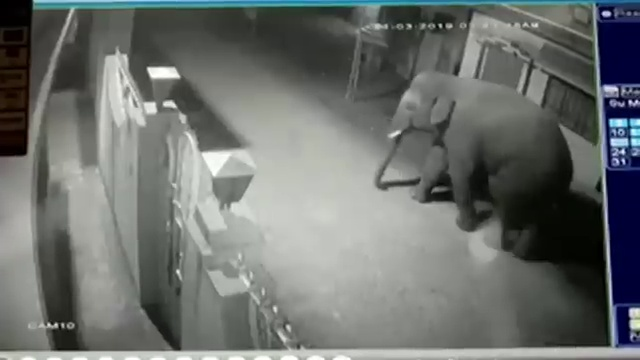Elephant: (374, 70, 573, 262)
